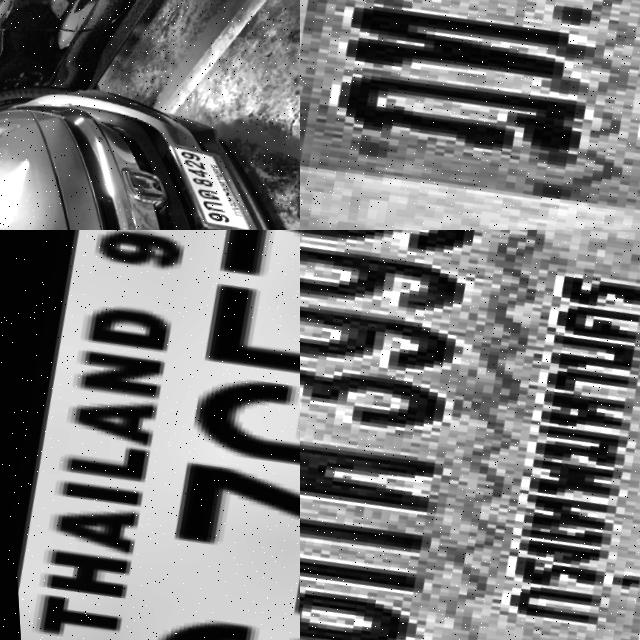license-plate: (300, 230, 640, 640), (0, 230, 300, 640), (300, 0, 640, 230), (144, 140, 275, 230)
